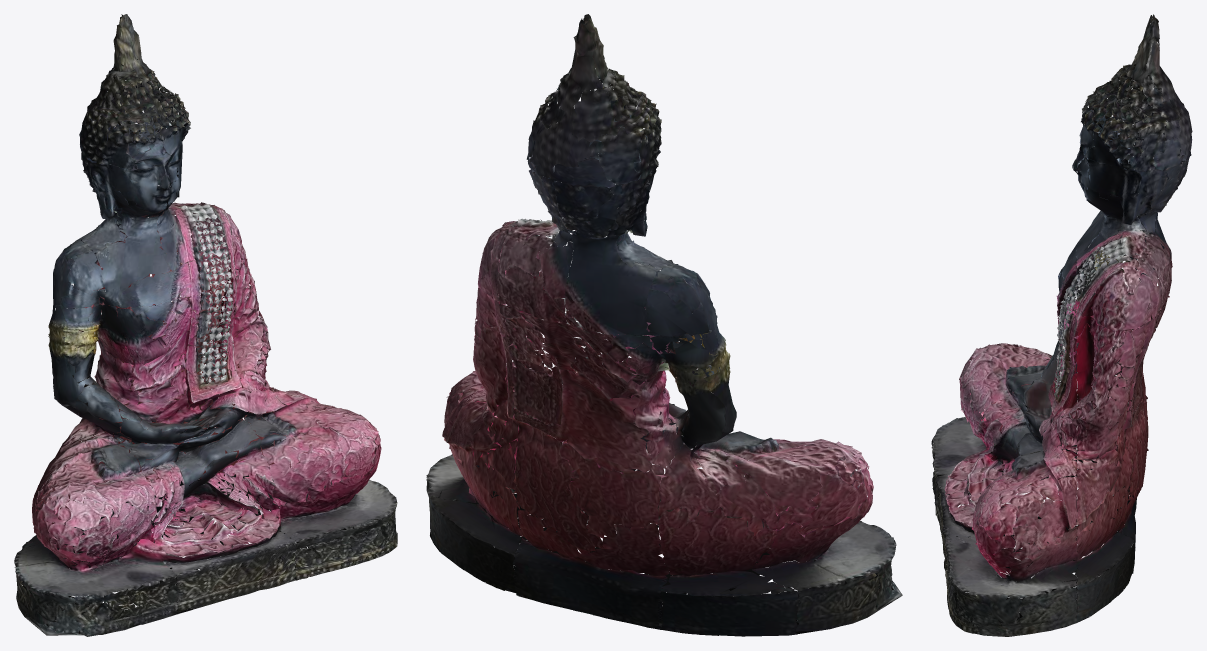
The picture shows the model from 3 angles, left to right: view 1: azimuth 30°, elevation 25°; view 2: azimuth 150°, elevation 25°; view 3: azimuth 270°, elevation 25°; orthographic projection. The views are drawn at different scales.
Parts seen in each view (by area): view 1: statue-022; view 2: statue-022; view 3: statue-022.
Boxes of the visible parts, x1,y1,x2,y2 form: statue-022: [14, 14, 397, 636]; statue-022: [426, 14, 902, 636]; statue-022: [931, 14, 1192, 636].
Size of the model in its own units: 0.7519 by 0.9992 by 0.4482.
1 material, 1 textured.
